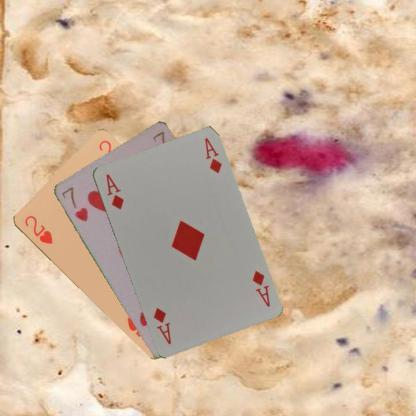2h: (21, 212, 54, 246)
7h: (58, 184, 89, 224)
Ad: (103, 171, 125, 211), (249, 268, 271, 308)
